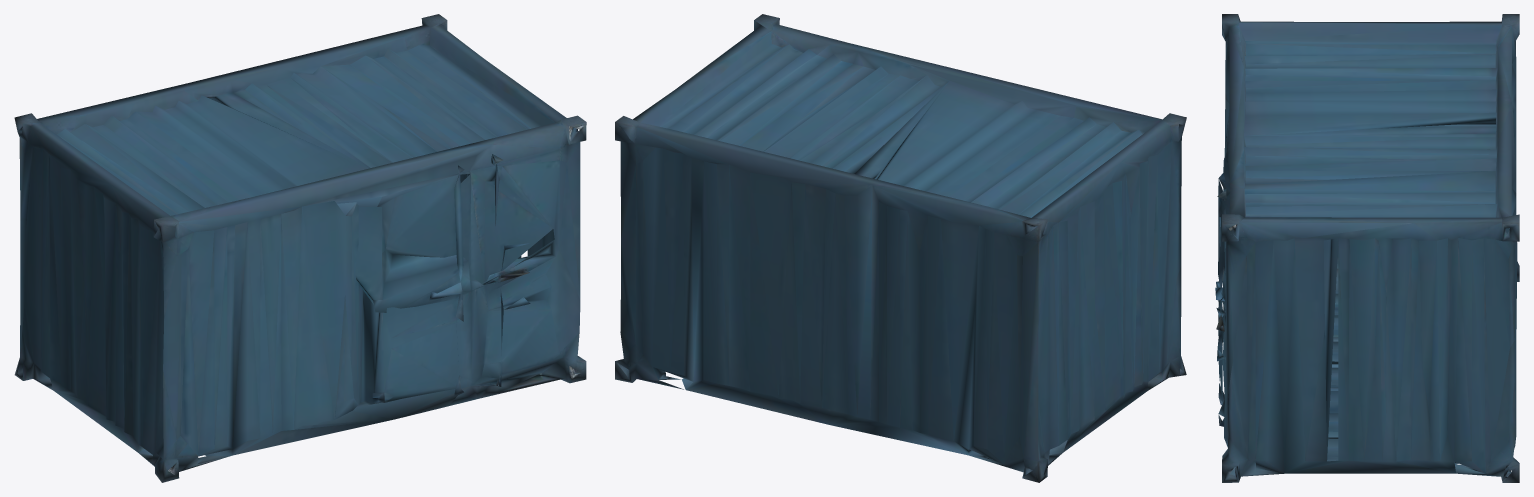
3 renders of one model, left to right at view 1: azimuth 30°, elevation 25°; view 2: azimuth 150°, elevation 25°; view 3: azimuth 270°, elevation 25°, orthographic.
Bounding box in the file's own units: 1.9 × 1.1 × 1.17.
Materials: 1 (1 with a texture image).
